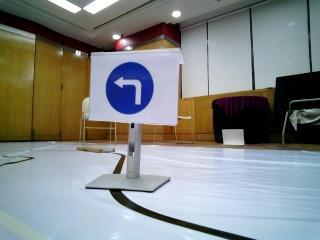left: (91, 57, 173, 126)
